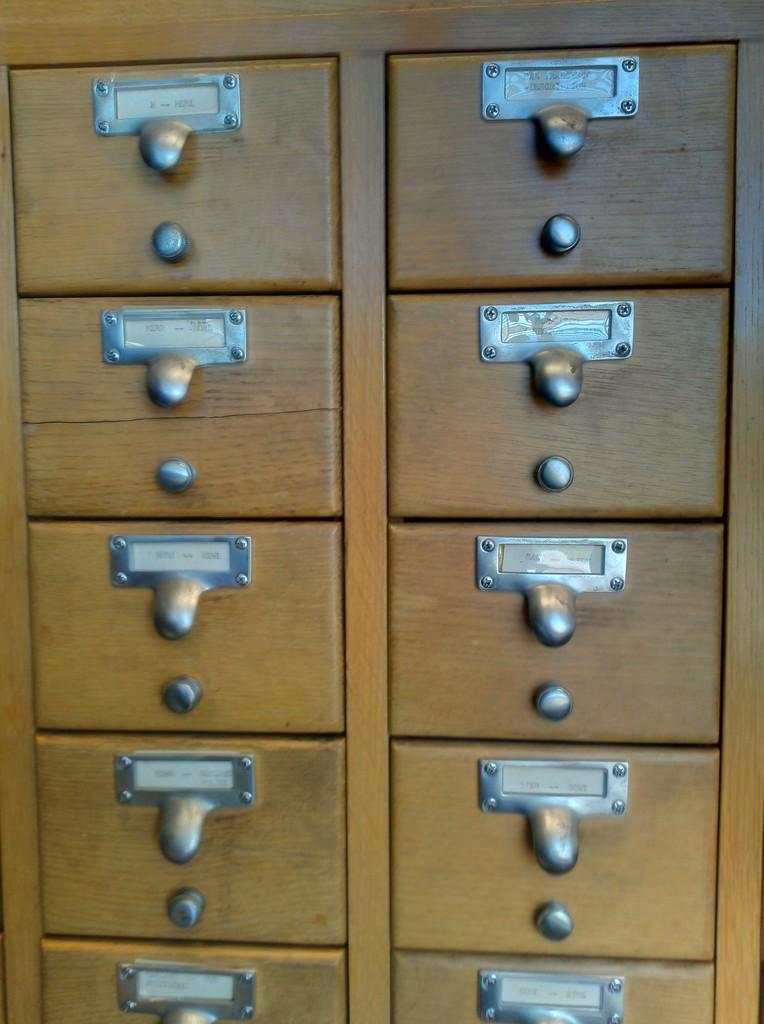cabinet_door: (388, 46, 734, 292), (385, 298, 725, 518), (392, 526, 726, 738), (389, 741, 721, 954), (38, 515, 347, 738), (35, 736, 347, 946), (17, 74, 341, 276), (25, 308, 337, 510), (42, 940, 346, 1024), (396, 950, 718, 1024)
handle: (150, 448, 202, 518), (160, 664, 206, 732), (532, 442, 580, 505), (162, 876, 209, 940), (532, 888, 578, 950), (530, 674, 578, 732), (536, 202, 590, 253), (150, 213, 188, 266)
